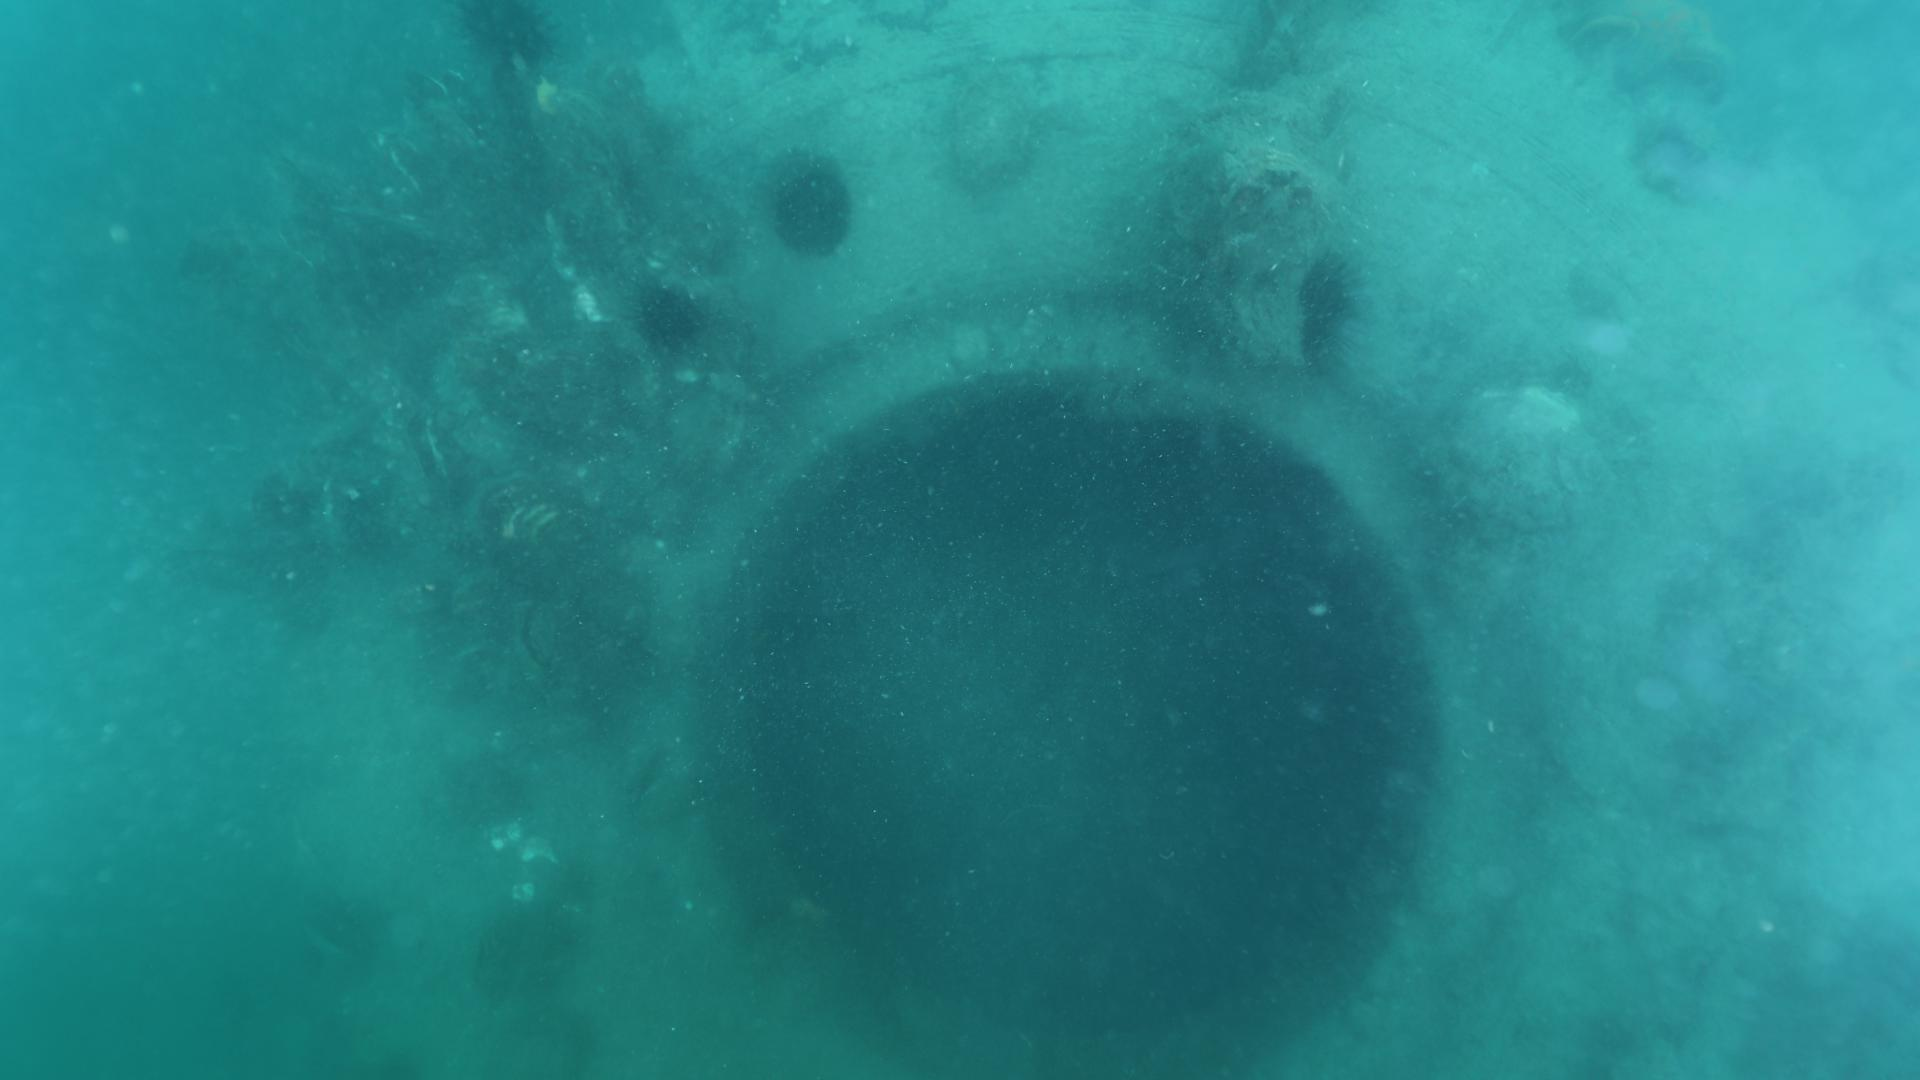tire: (363, 0, 1920, 1076)
